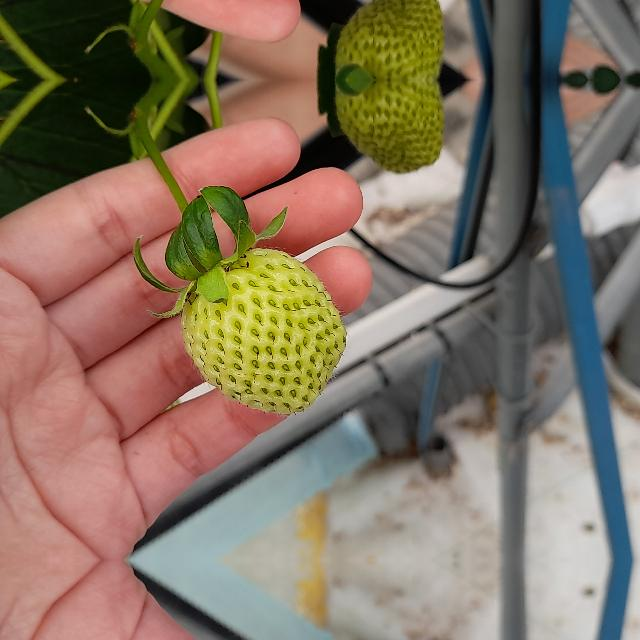Health_25: (180, 248, 346, 414), (328, 80, 450, 176), (327, 0, 450, 80)
